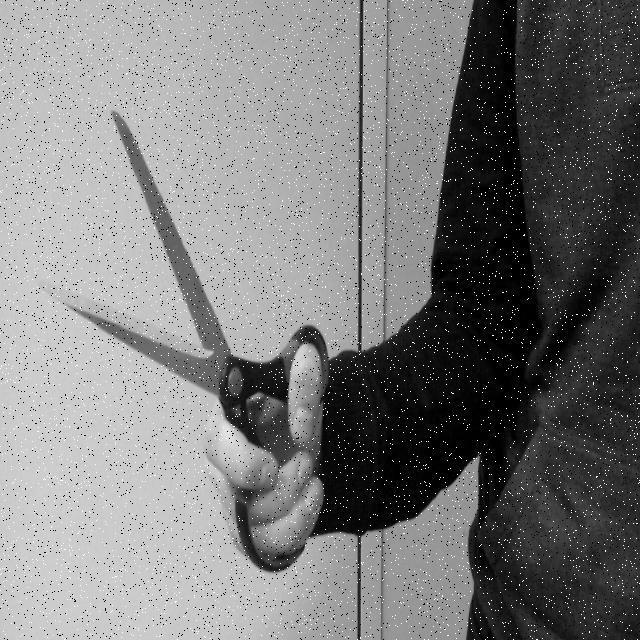scissors: (25, 101, 332, 576)
